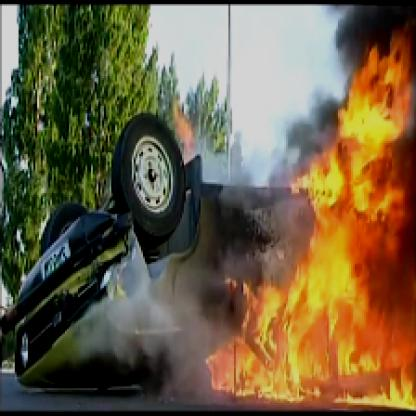Fire: (208, 30, 414, 406)
